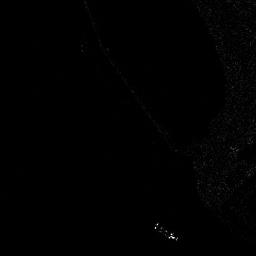ship: (153, 222, 180, 242)
